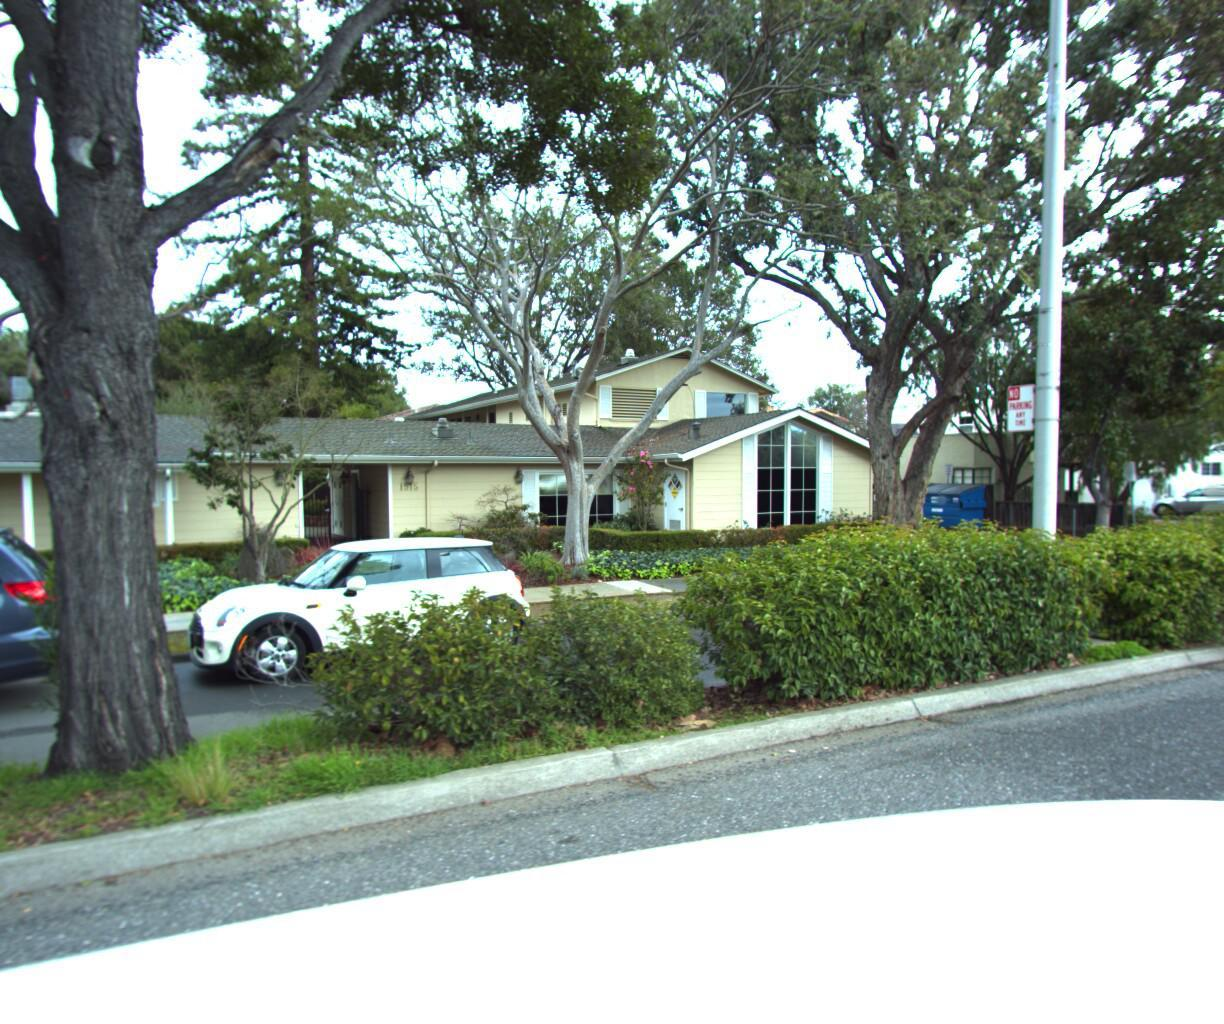car: (175, 526, 544, 707), (0, 513, 56, 837), (1149, 480, 1224, 520)
